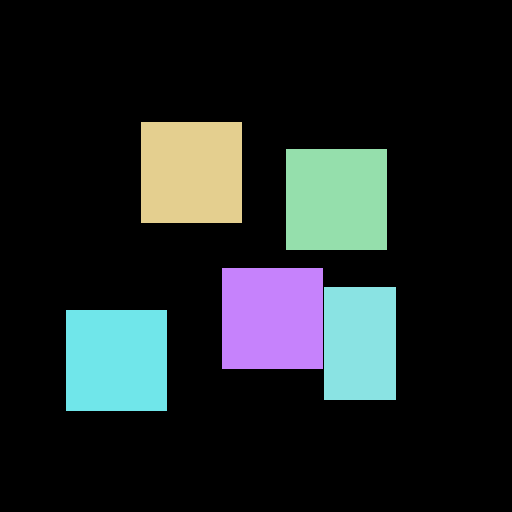rectangle: (324, 287, 395, 399)
square: (66, 310, 166, 410), (222, 268, 322, 368), (286, 149, 386, 249), (141, 122, 241, 222)
